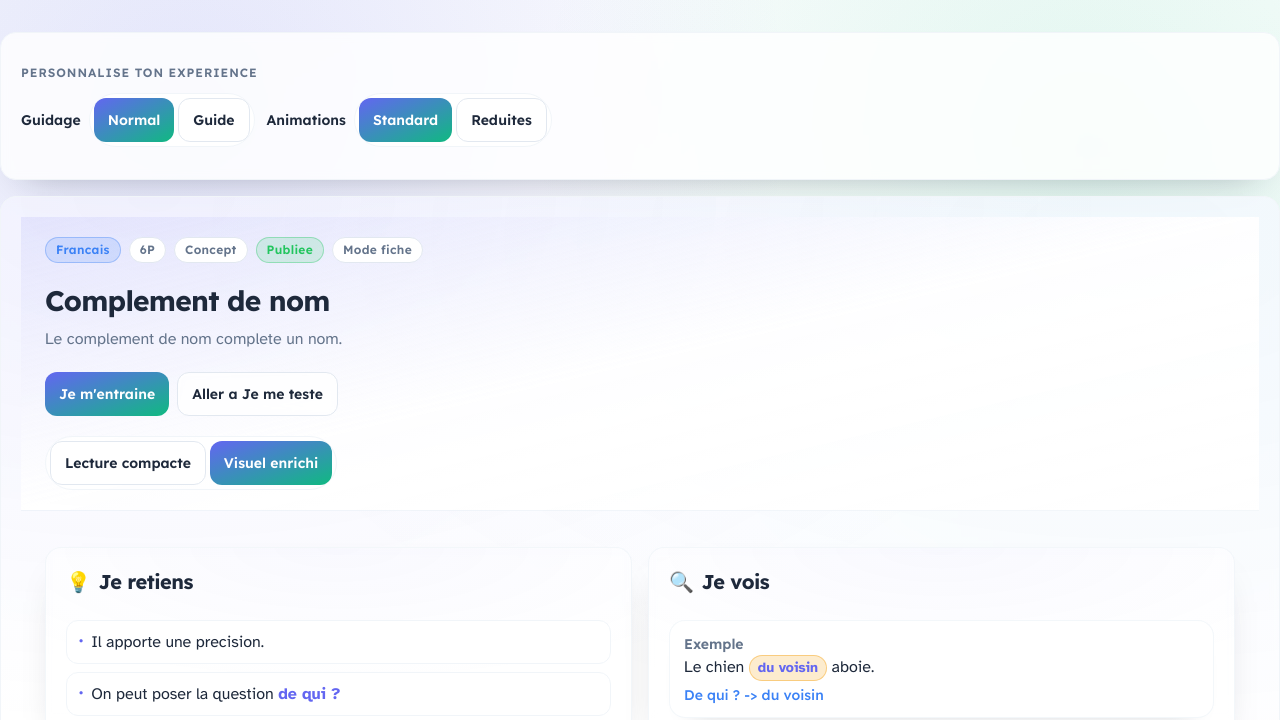
Test case: RevisionCardView › shows retry action when extra exercises generation fails then succeeds
Click the button with test id "revision-sheet-to-practice". click: (107, 394)
box: 45,372 -> 169,416
(page scrolled)
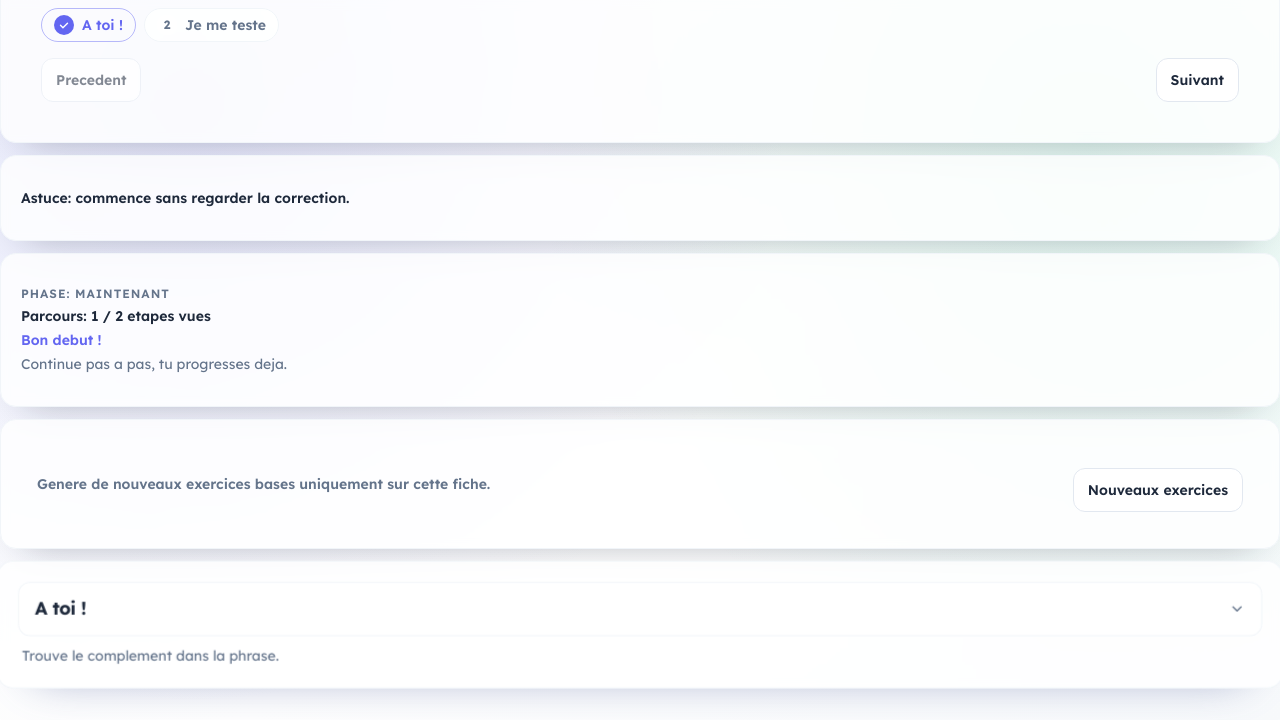
Click the button with test id "revision-generate-extra-exercises". click: (1158, 490)
box: 1073,468 -> 1243,512
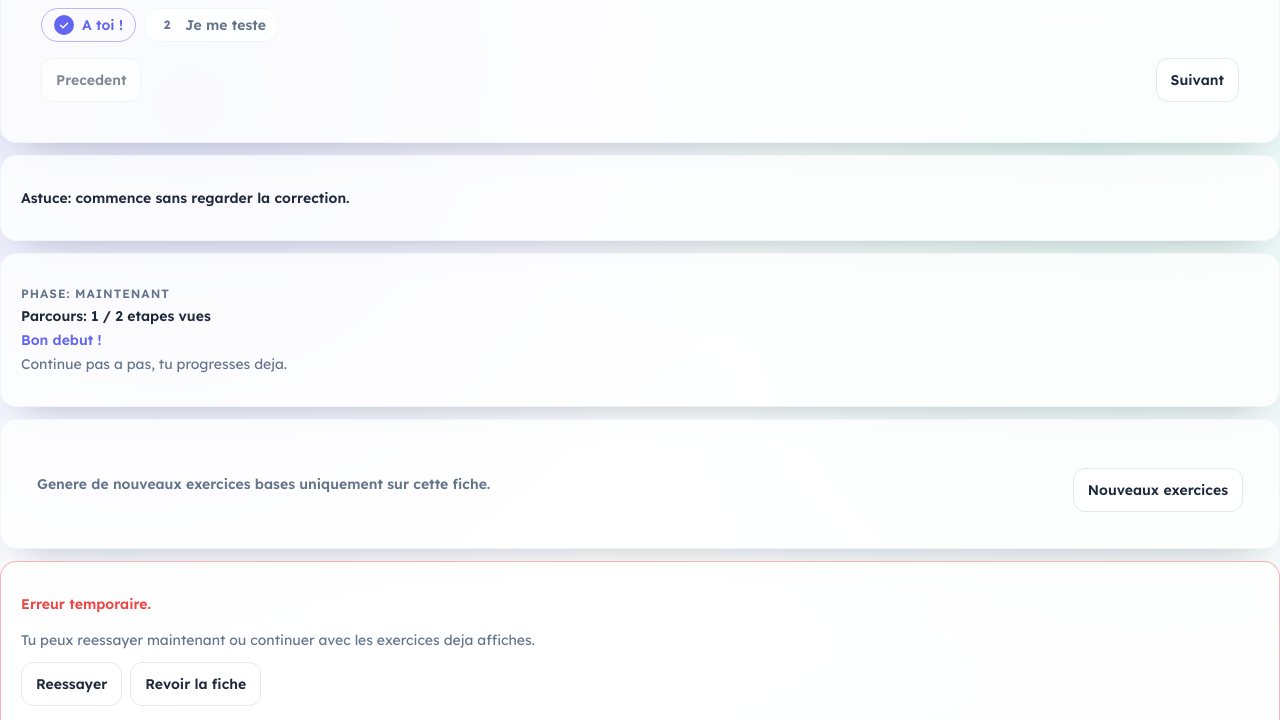
expect the text "Erreur temporaire." is shown: met, box 21,595 -> 151,613
expect the button with test id "revision-generate-extra-exercises-retry" is shown: met
Click the button with test id "revision-generate-extra-exercises-retry". click: (72, 684)
box: 21,662 -> 122,706
(page scrolled)
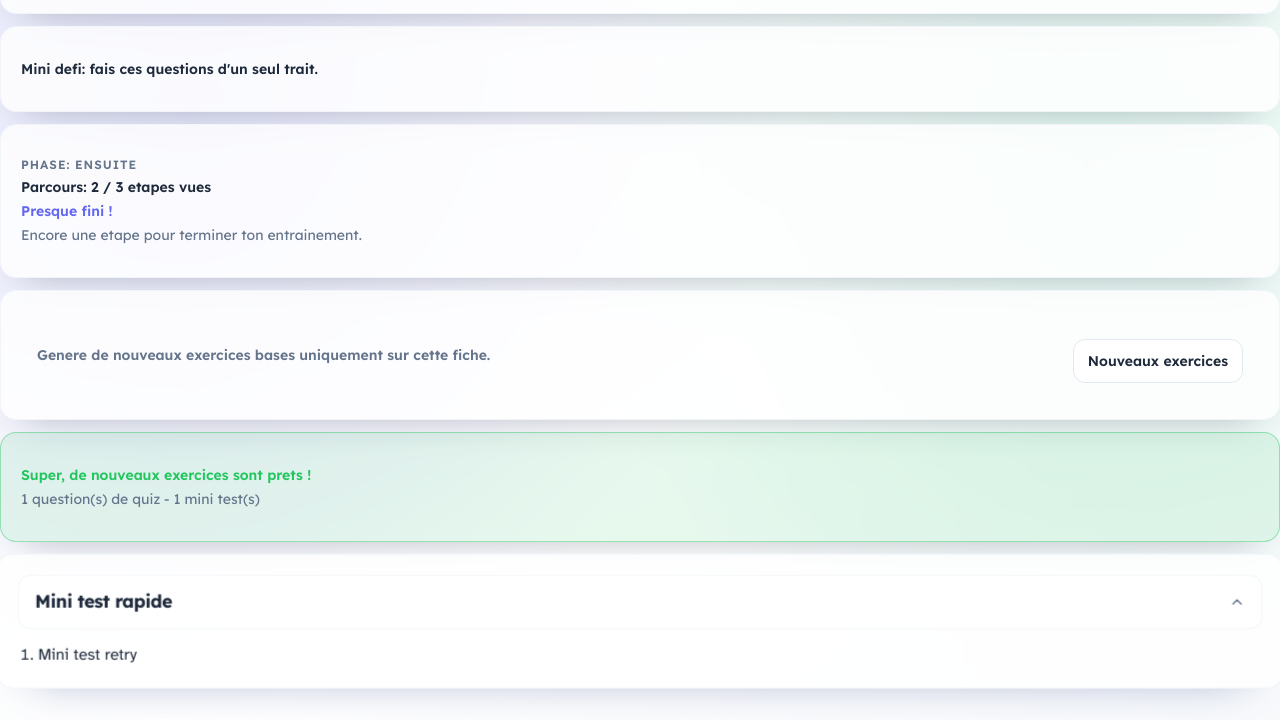
expect the element with test id "revision-extra-exercises-success" is shown: met, box 0,432 -> 1279,542
expect the list item "Mini test retry" is shown: met, box 38,644 -> 137,664
